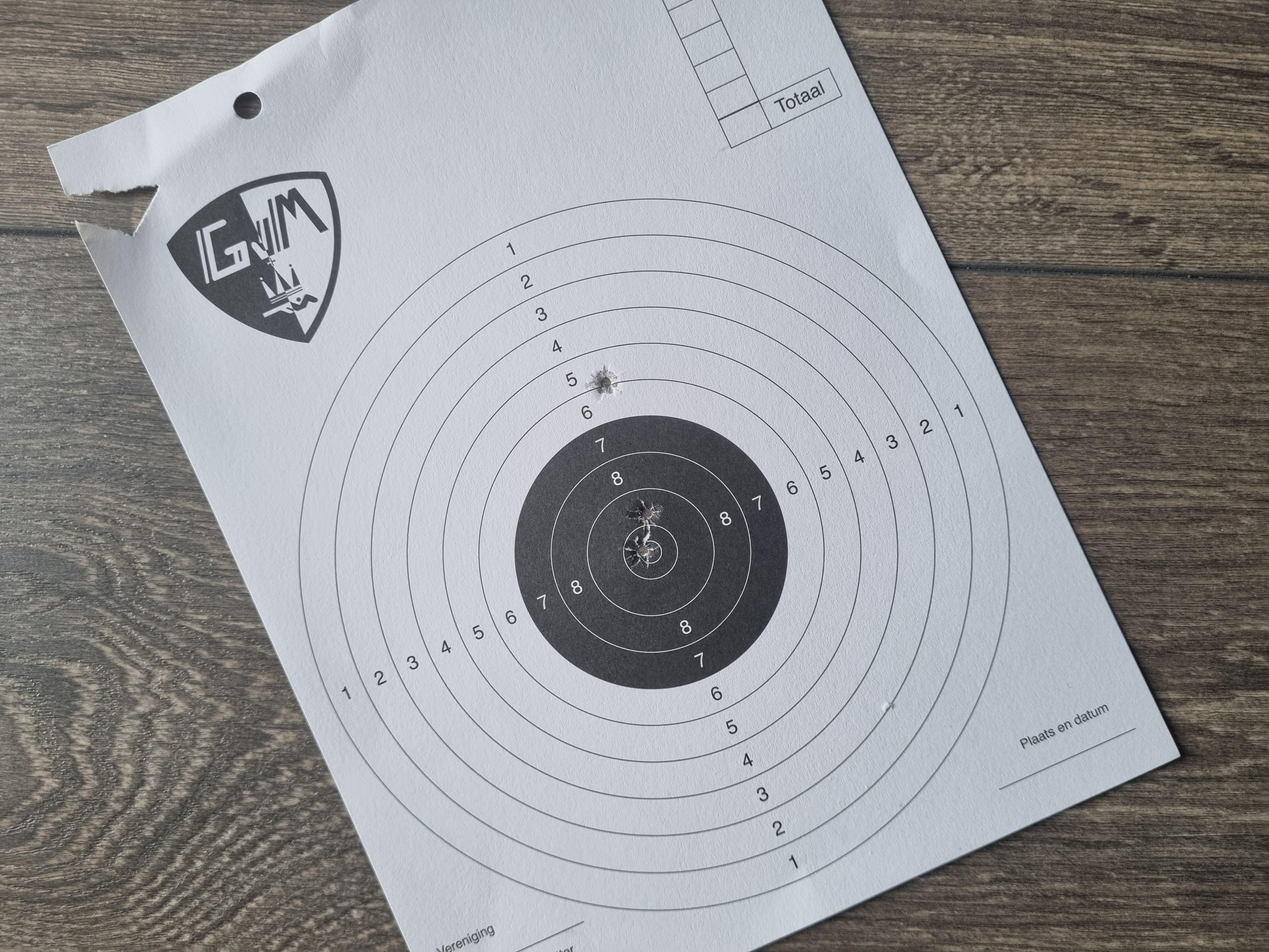hole: (557, 469, 609, 499), (734, 439, 781, 470), (512, 468, 557, 496)
